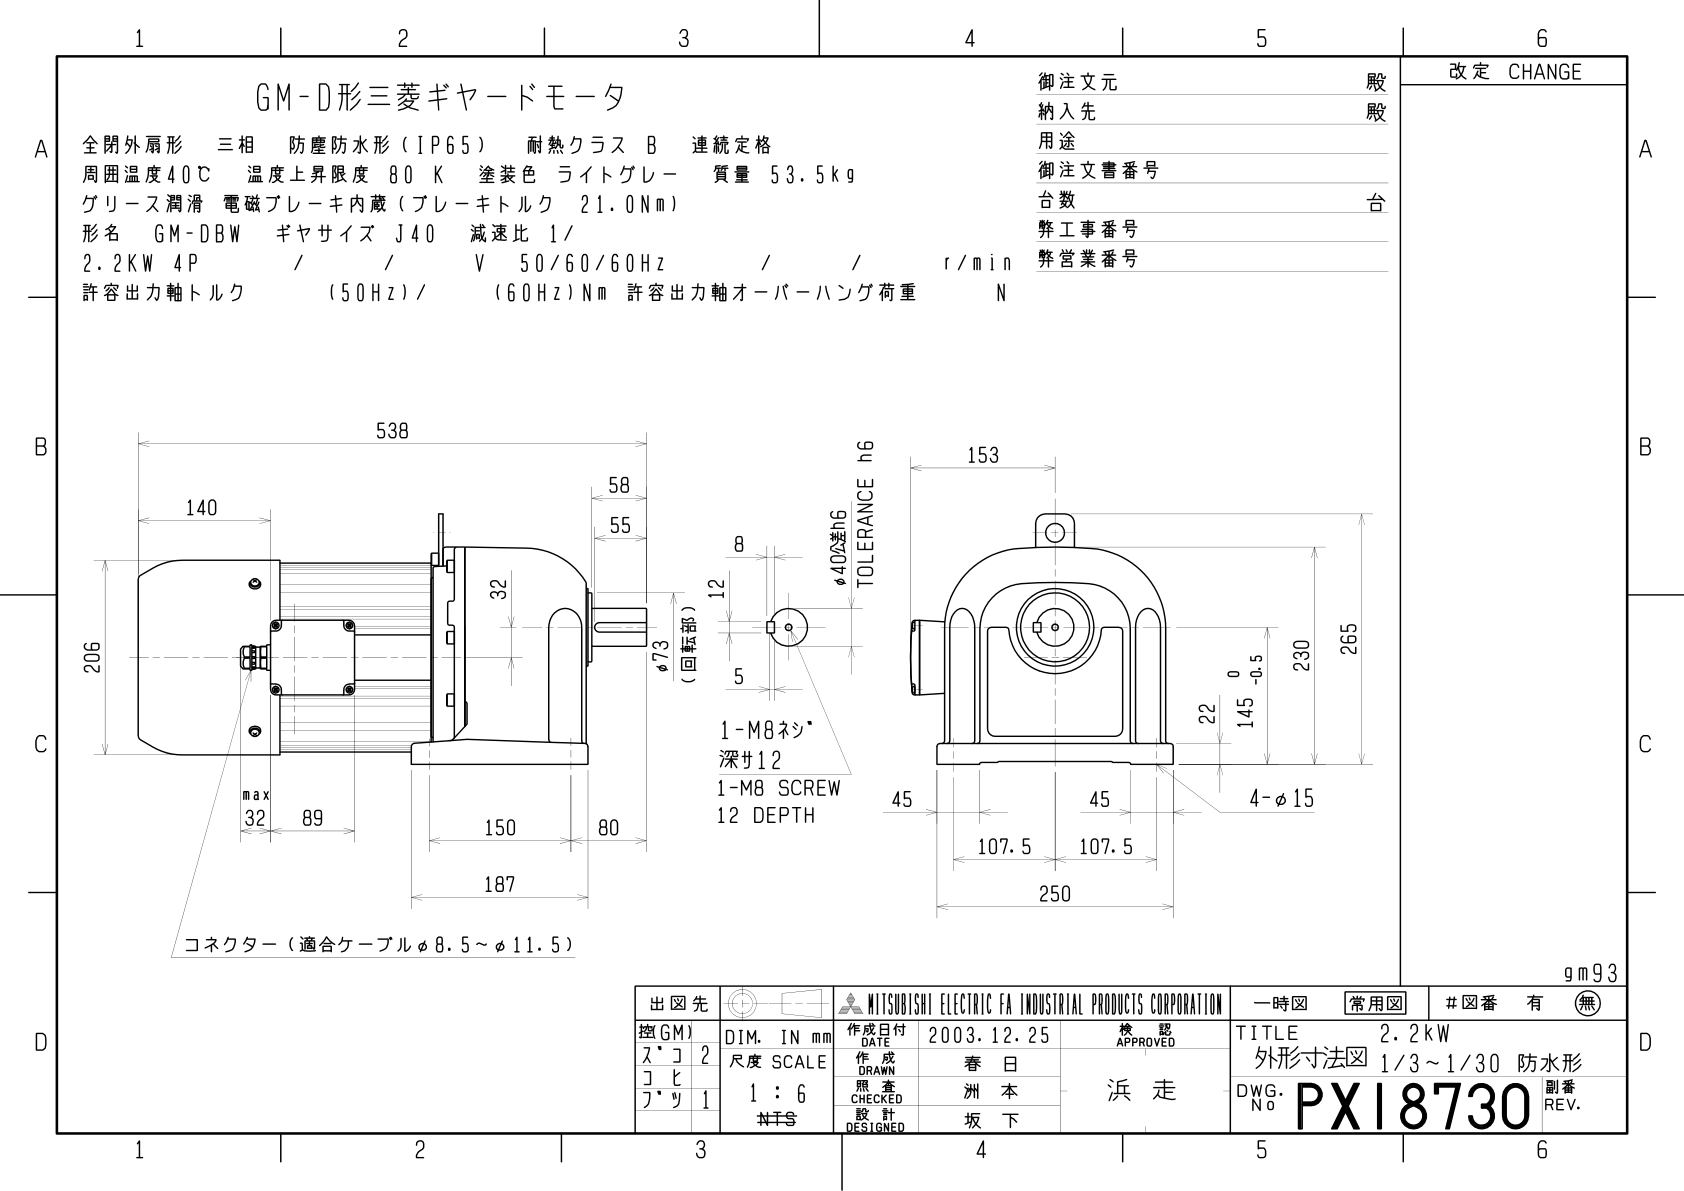GM_D_IP65_三相_脚: (64, 312, 1383, 955)
